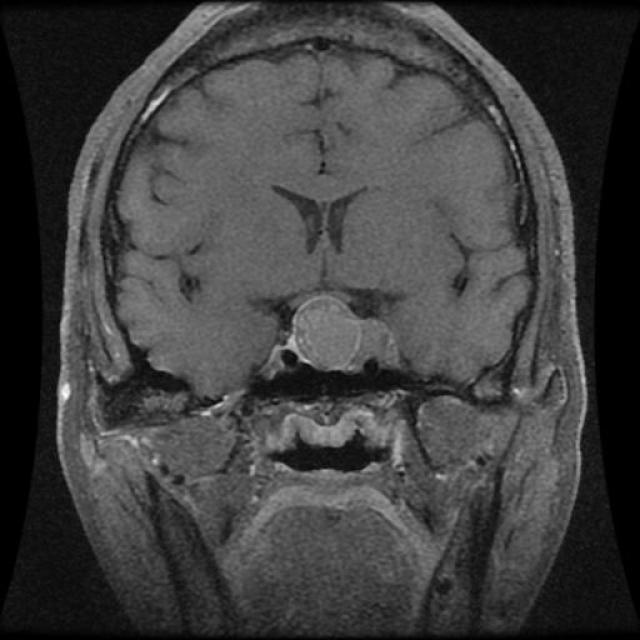pituitary: (267, 281, 417, 389)
